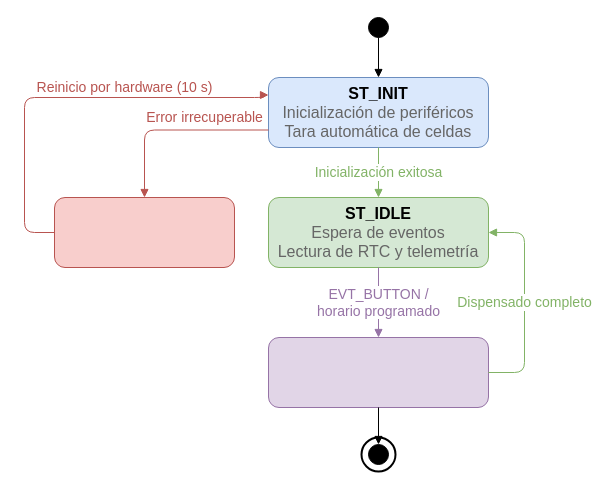
Some shapes in this 609 by 490 pixel diagram are drawn without their labels. Here are the shapes that lost their labels. From the top down, the centre of each, then its label:
At point 144,232: "ST_ERROR LED encendido Reinicio automático".
At point 378,372: "ST_DISPENSING Activación del motor Notificación al usuario".
